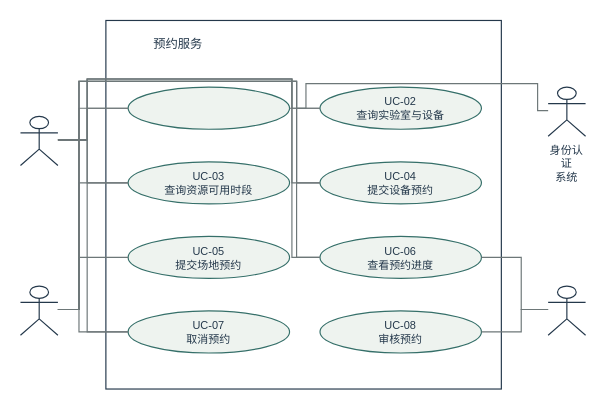
Image size: 606x410. Some labels were removed from this diagram. The centre of each missing label's shape, as x and y in pixels:
UC-01 登录系统: point 208,107
学生: point 38,140
实验室 管理员: point 566,310
教师: point 38,310
